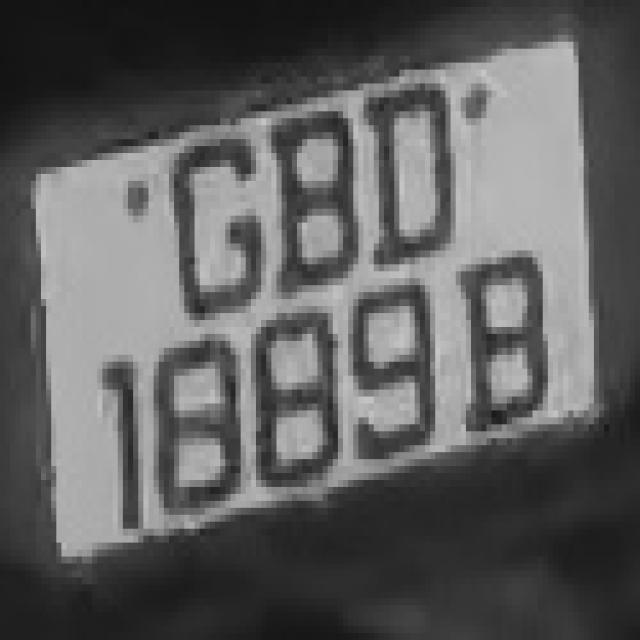1: (102, 306, 154, 557)
8: (246, 271, 343, 515), (143, 320, 246, 529)
9: (343, 264, 440, 466)
B: (256, 70, 369, 306), (456, 230, 563, 438)
D: (353, 70, 461, 278)
G: (154, 118, 272, 327)
